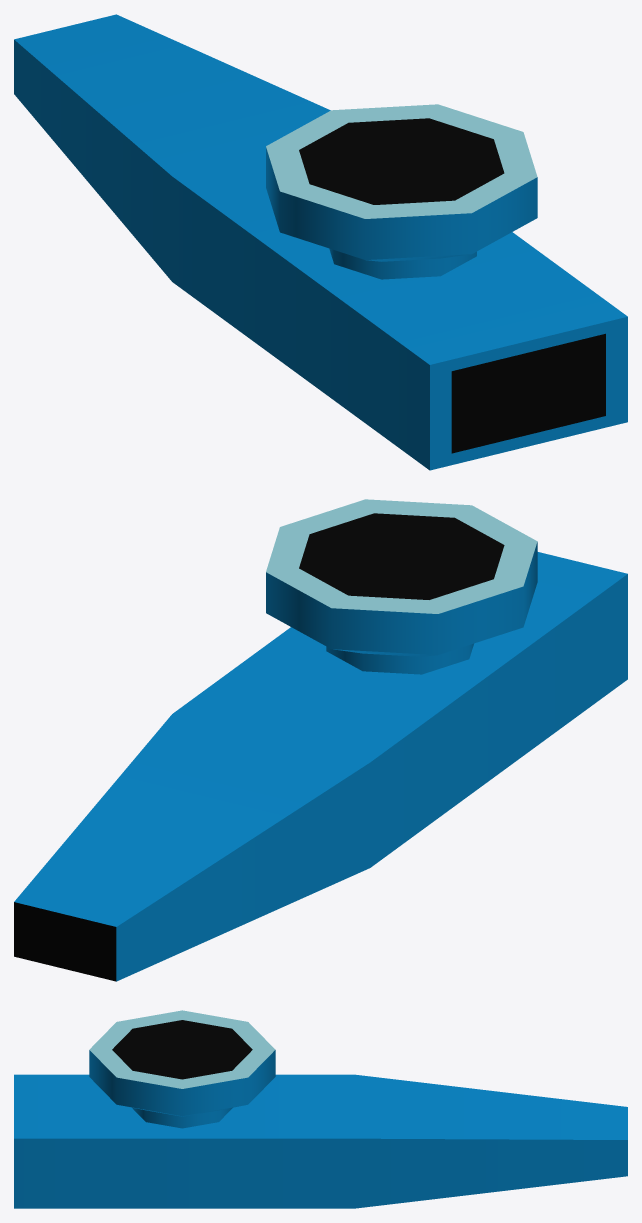
The model's file is Kazoo.fbx.
The picture shows the model from 3 angles, top to bottom: view 1: azimuth 30°, elevation 25°; view 2: azimuth 150°, elevation 25°; view 3: azimuth 270°, elevation 25°; orthographic projection. The views are drawn at different scales.
Visible parts, largest first — view 1: Kazoo; view 2: Kazoo; view 3: Kazoo.
Part boxes in pixels (x1=…): Kazoo: x1=14, y1=14, x2=627, y2=470; Kazoo: x1=14, y1=499, x2=627, y2=981; Kazoo: x1=14, y1=1010, x2=627, y2=1208.
Bounding box in the file's own units: 0.1111 × 0.0835 × 0.3663.
